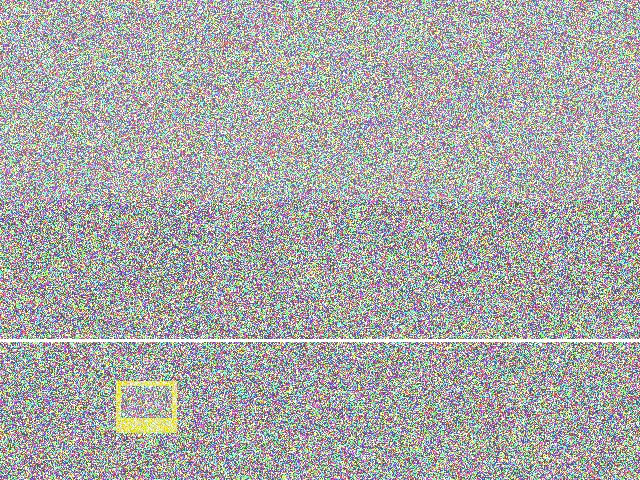car: (368, 320, 456, 449), (432, 311, 533, 416)
motorcycle: (33, 366, 165, 480)
